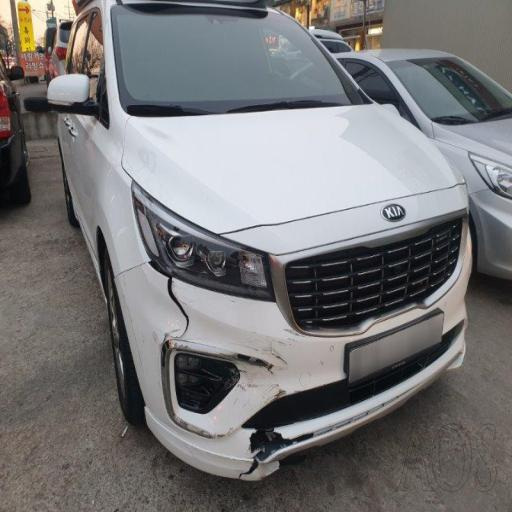broken: (147, 225, 334, 481)
